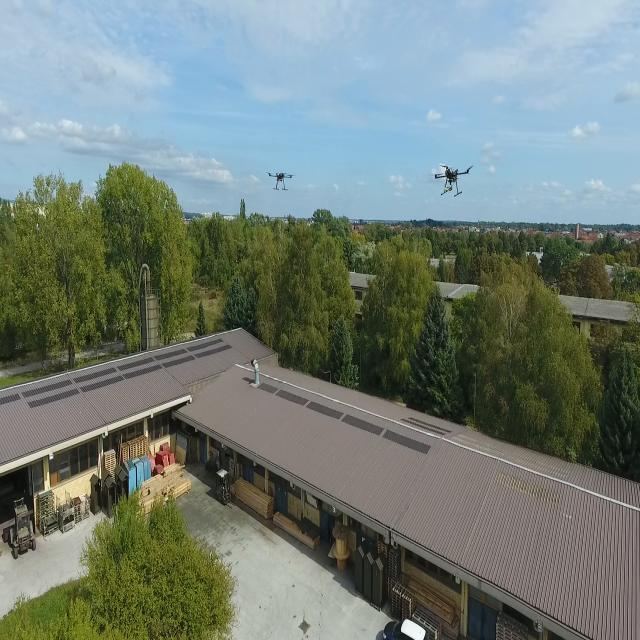UAV: (427, 158, 474, 200), (262, 166, 300, 194)
